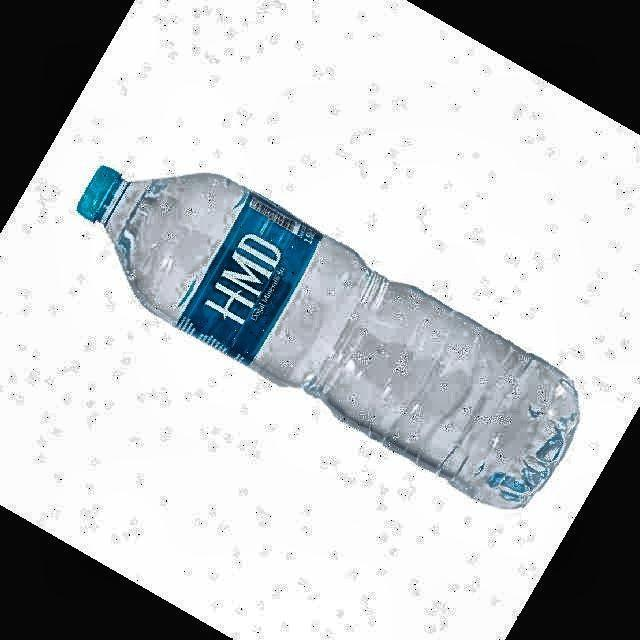plastic: (78, 166, 579, 508)
